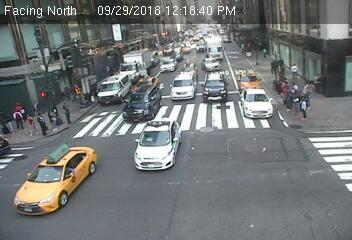car: (11, 143, 100, 213), (133, 114, 182, 171), (125, 83, 162, 123), (240, 88, 273, 120), (96, 74, 133, 101), (117, 49, 153, 75), (172, 68, 197, 100), (205, 72, 228, 104), (203, 33, 226, 60), (237, 68, 261, 91), (132, 76, 158, 91), (200, 56, 224, 72), (160, 53, 177, 73), (178, 44, 192, 53), (194, 42, 206, 51)
